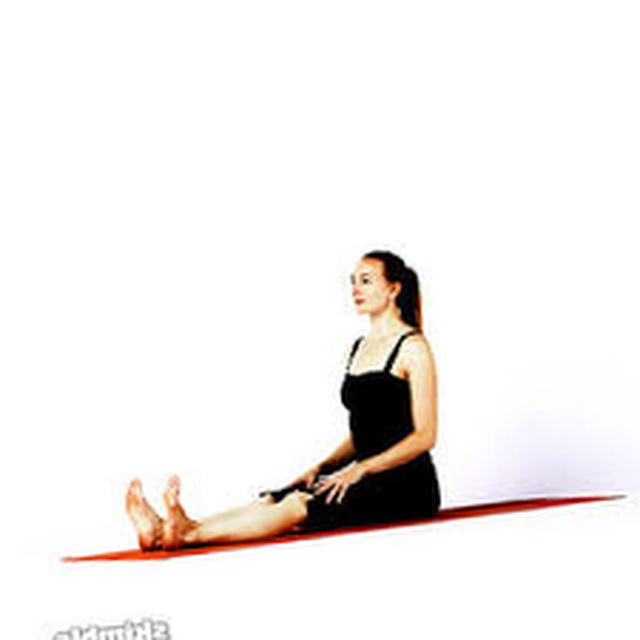Staff_Pose: (124, 249, 443, 552)
